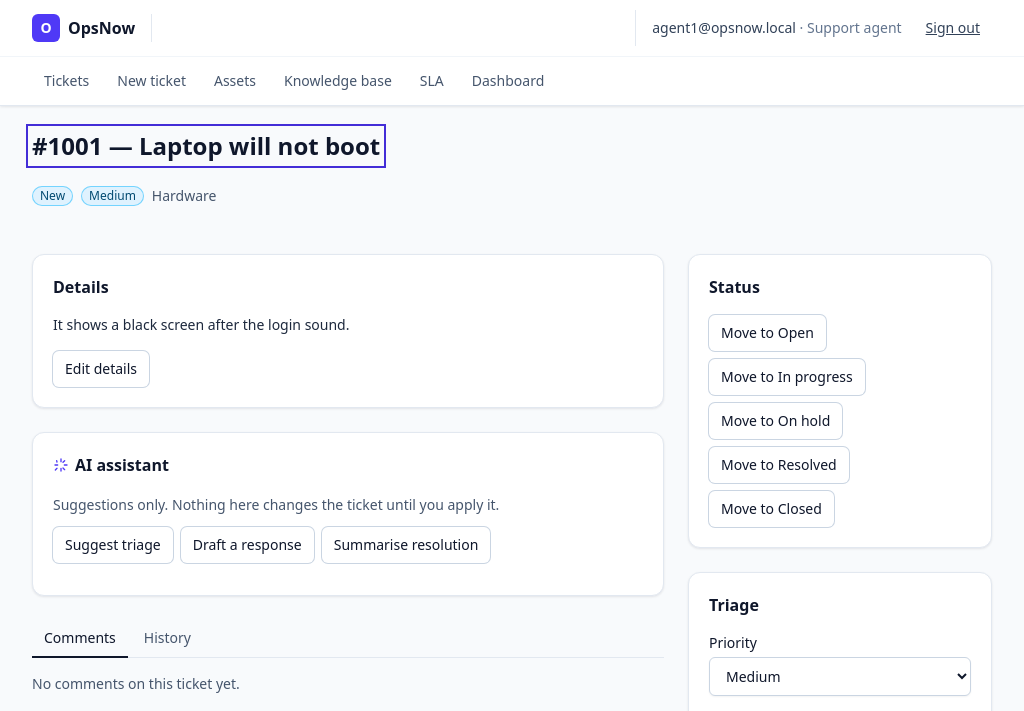
Test: AI assistant — draft response and resolution summary › renders a resolution summary, labelled
Expected: the heading "#1001 — Laptop will not boot" is shown, [32,130,380,162]
What coordinates should you click on to do the following:
click the button "Summarise resolution"
I would click on:
 (406, 545)
Its box is [322,527,490,563].
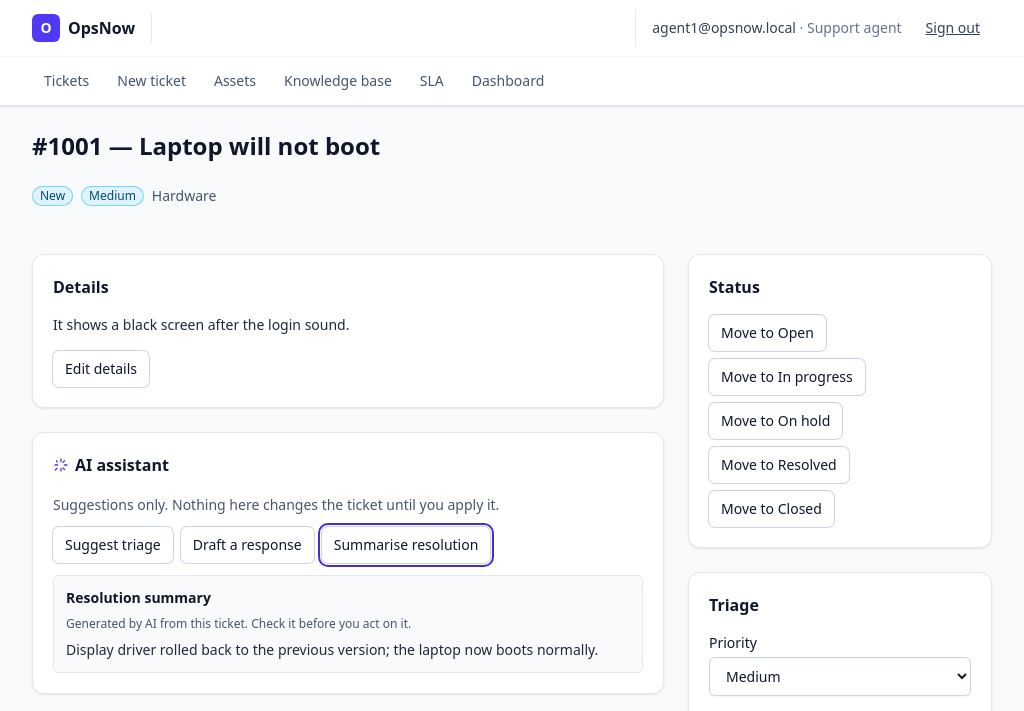
Expected: the text "Display driver rolled back to the previous version; the laptop now boots normally." is shown, [66,640,598,659]
Expected: the text "Generated by AI" is shown, [66,615,411,632]
